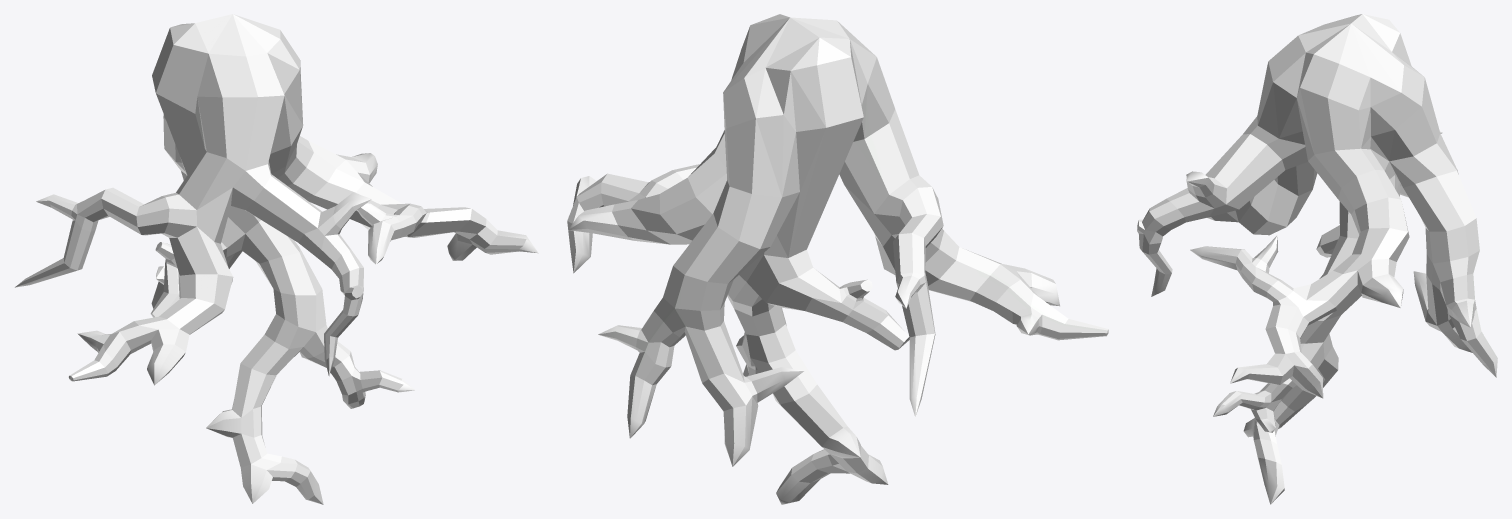
Rendered from samurai_SM_Env_Tree_Root_Clump_02.gltf.
The picture shows the model from 3 angles, left to right: view 1: azimuth 30°, elevation 25°; view 2: azimuth 150°, elevation 25°; view 3: azimuth 270°, elevation 25°; orthographic projection. The views are drawn at different scales.
Parts seen in each view (by area): view 1: SM_Env_Tree_Root_Clump_02; view 2: SM_Env_Tree_Root_Clump_02; view 3: SM_Env_Tree_Root_Clump_02.
Boxes of the visible parts, <box> form: SM_Env_Tree_Root_Clump_02: <box>15,14,538,504</box>; SM_Env_Tree_Root_Clump_02: <box>567,14,1108,504</box>; SM_Env_Tree_Root_Clump_02: <box>1137,14,1497,504</box>.
Bounding box in the file's own units: 6.09 × 5.91 × 4.22.
Materials: 1 (1 with a texture image).
